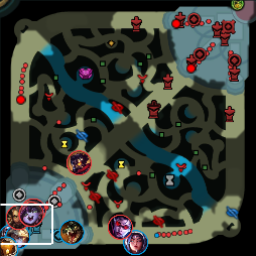bard: (1, 237, 17, 256)
ezreal: (5, 224, 29, 248)
irelia: (123, 231, 148, 254)
lulu: (19, 200, 43, 226)
nidalee: (6, 205, 27, 228)
renekton: (59, 219, 84, 245)
vayne: (107, 213, 132, 239)
viktor: (65, 150, 91, 175)
